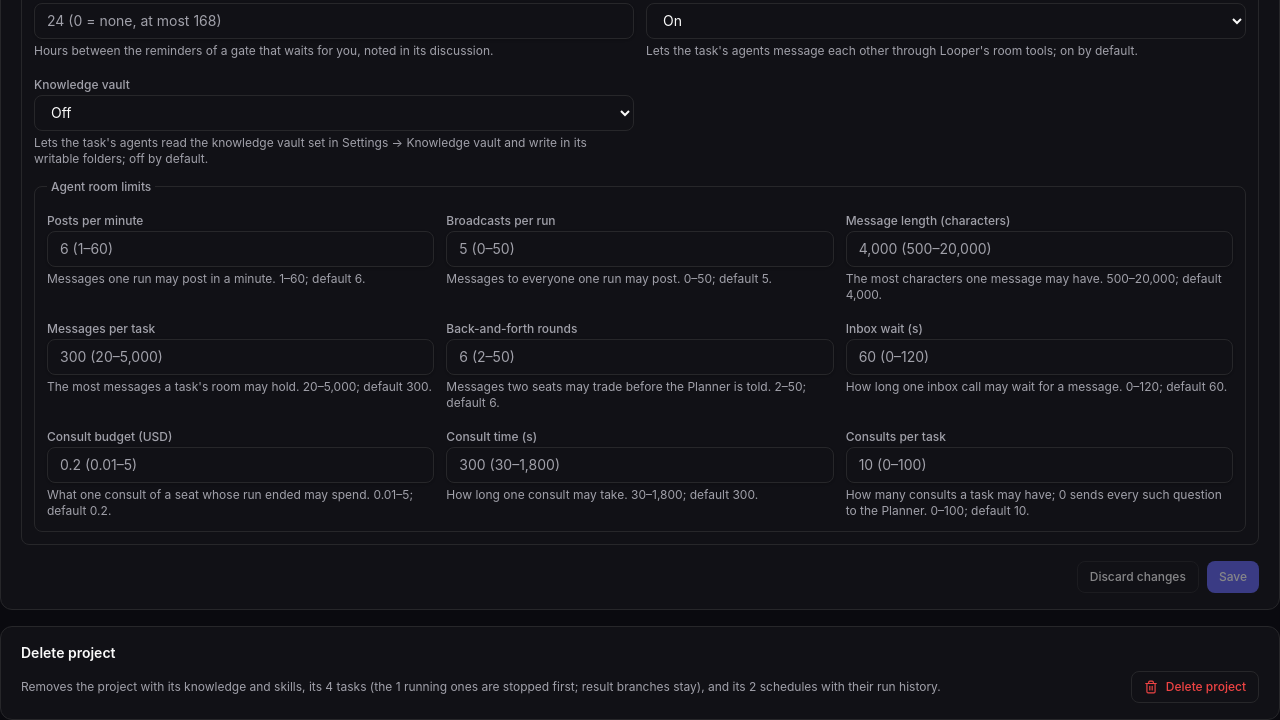
project deletion › offers deletion and only nonzero impact clauses: {"task_count":4,"active_count":1,"schedule_count":2}
(page scrolled)
Expected: the text "Removes the project with its knowledge and skills, its 4 tasks (the 1 running ones are stopped first; result branches stay), and its 2 schedules with their run" is shown, 21,678 -> 941,694
Click the button "Delete project" at (1195, 686), box 1131,670 -> 1259,702
(page scrolled)
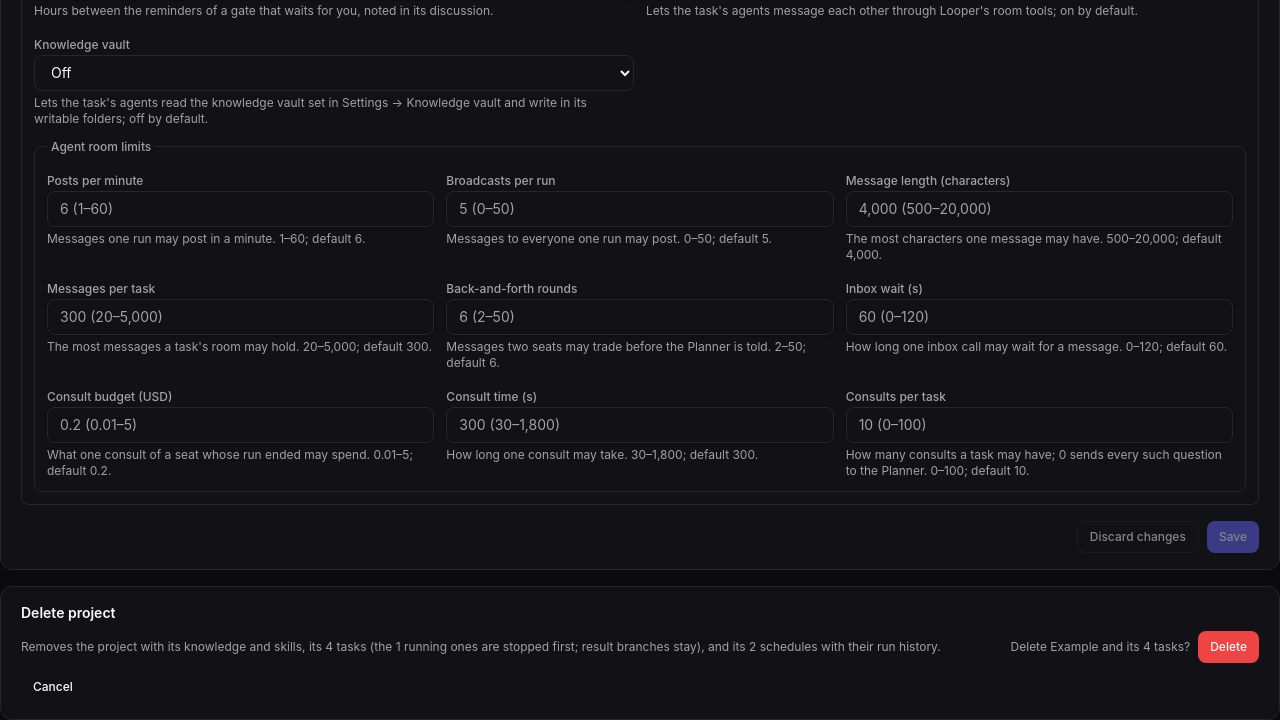
Result: the element that starts with "Delete project" shows "Delete Example and its 4 tasks?" at 0,586 -> 1279,719
